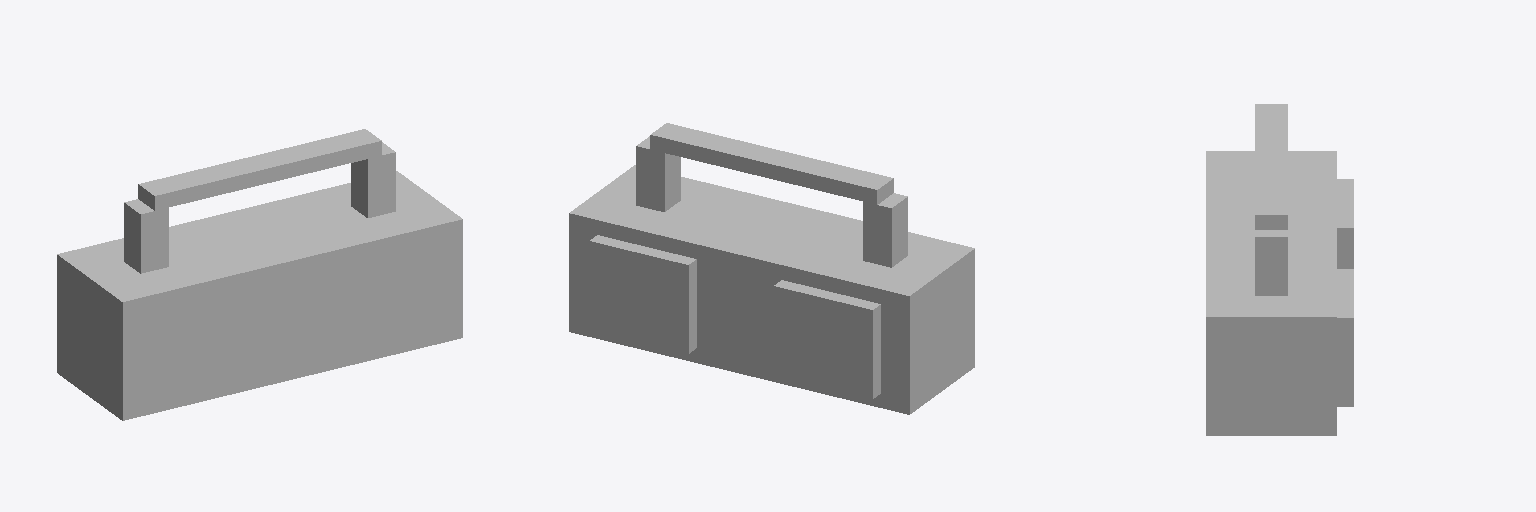
Rendered from speaker.obj.
3 renders of one model, left to right at view 1: azimuth 30°, elevation 25°; view 2: azimuth 150°, elevation 25°; view 3: azimuth 270°, elevation 25°, orthographic.
Parts seen in each view (by area): view 1: cube; view 2: cube; view 3: cube.
Boxes of the visible parts, x1,y1,x2,y2 form: cube: [57, 129, 462, 420]; cube: [569, 123, 974, 414]; cube: [1206, 104, 1353, 435].
Size of the model in its own units: 0.1875 by 0.1016 by 0.0703.